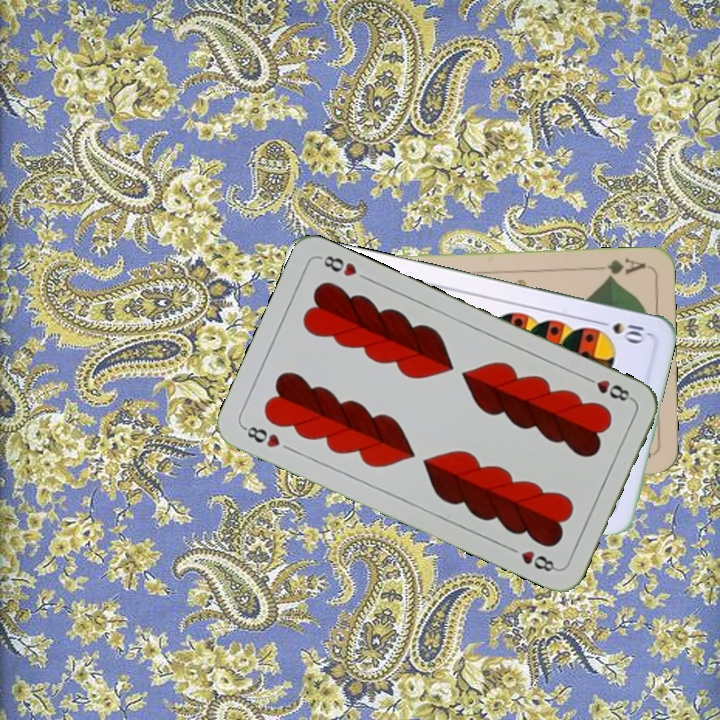GA: (602, 254, 649, 281)
H8: (580, 372, 636, 404), (239, 422, 283, 451)
S10: (592, 316, 647, 345)
